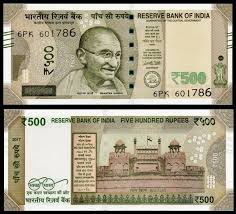fiveHundred: (14, 18, 221, 88)
